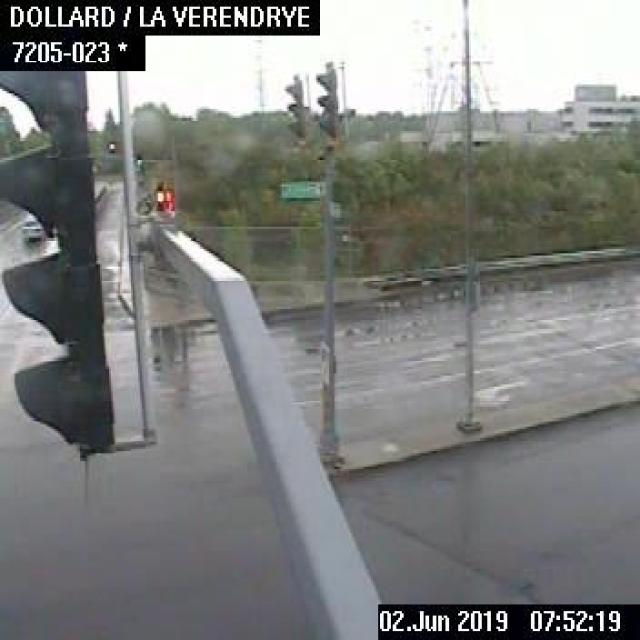vehicle: (16, 211, 46, 240)
